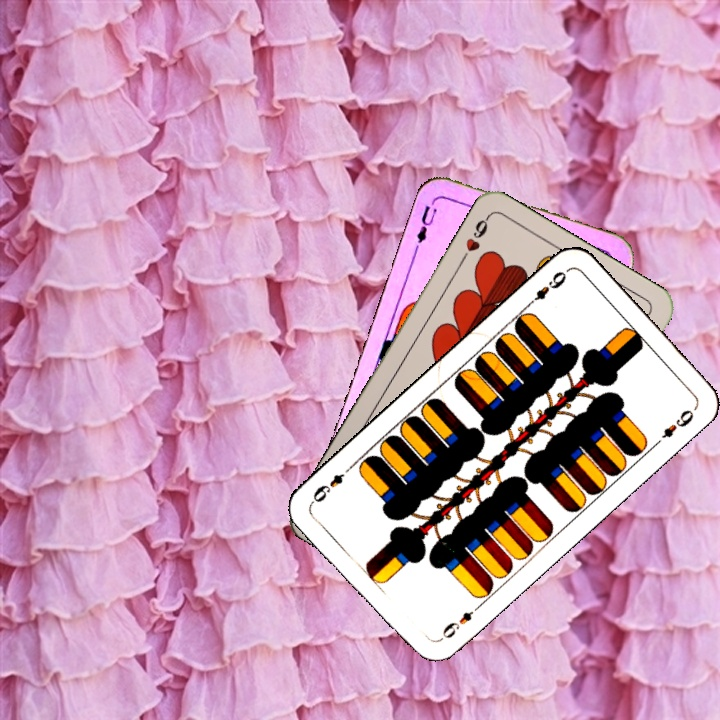E9: (522, 266, 571, 309), (435, 601, 483, 644)
EU: (410, 196, 440, 253)
H9: (456, 212, 492, 266)
